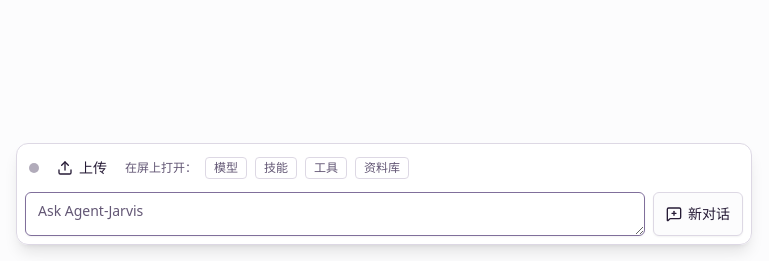
it: FloatingChat › collapse panel › 再次展开时停在最新一条，不是最早那条（TEST-031 ⑤ / REQ-F-054 ⑩）
The width and height of the screenshot is (769, 261).
In the text box with placeholder "Ask Agent-Jarvis": [335, 214] box [25,192,645,236], type "q"
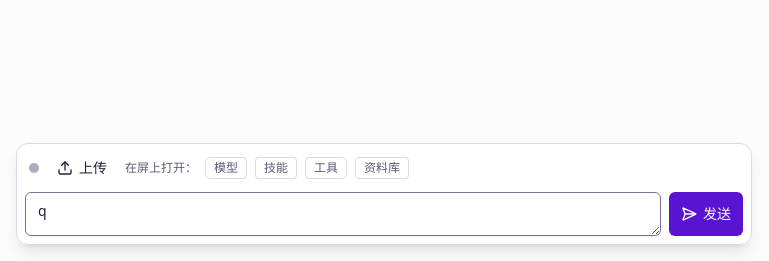
Submit the form with placeholder "Ask Agent-Jarvis", box [25,192,743,236]
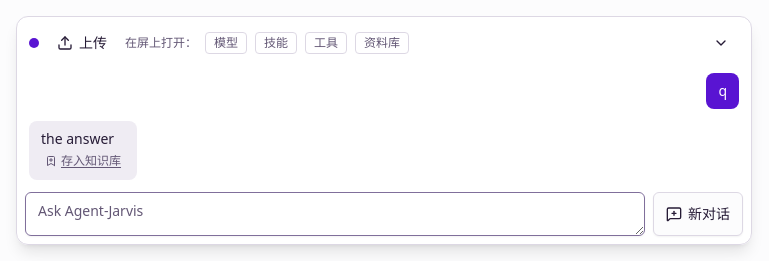
Expected: the text "the answer" is shown, [41,129,125,149]
Click the button named "收起对话": [721, 43] box [703,25,739,61]
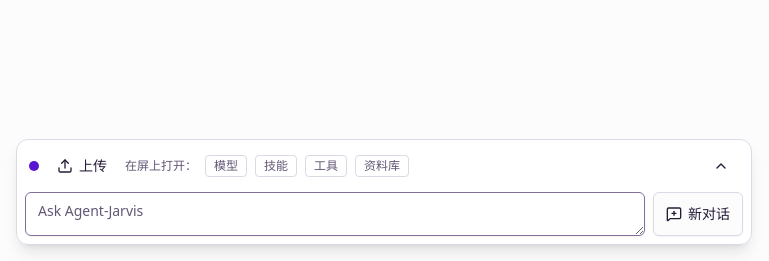
Expected: the element with class "floating-chat__messages" is gone
Click the button named "展开对话": [721, 166] box [703,148,739,184]
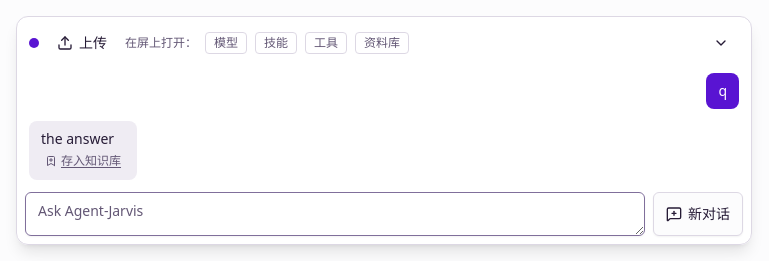
Expected: the text "the answer" is shown, [41,129,125,149]
